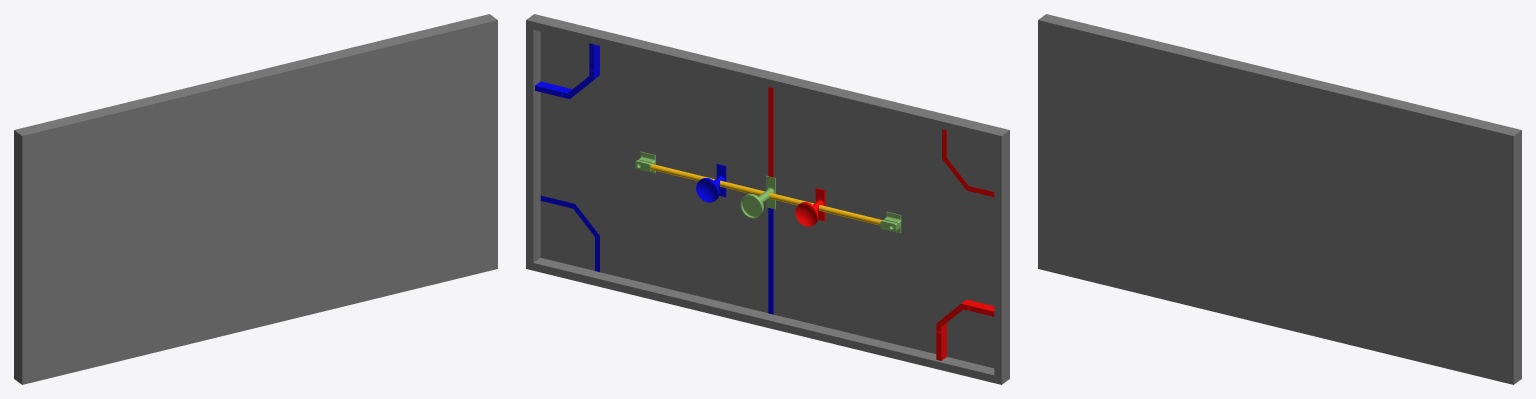
3 views of the same model, side by side, from view 1: azimuth 30°, elevation 25°; view 2: azimuth 150°, elevation 25°; view 3: azimuth 330°, elevation 25° (orthographic).
Visible parts, largest first — view 1: NAUO21, NAUO25, NAUO24; view 2: NAUO21, NAUO25, NAUO22, NAUO24, NAUO23, NAUO13, NAUO12, NAUO14, NAUO11, NAUO8, NAUO2, NAUO4 (+2 smaller); view 3: NAUO21, NAUO25, NAUO23.
Part boxes in pixels (x1=…): NAUO21: x1=21, y1=19, x2=497, y2=384; NAUO25: x1=14, y1=14, x2=496, y2=142; NAUO24: x1=14, y1=138, x2=21, y2=375; NAUO21: x1=533, y1=14, x2=1009, y2=379; NAUO25: x1=526, y1=15, x2=1008, y2=143; NAUO22: x1=526, y1=258, x2=1008, y2=384; NAUO24: x1=994, y1=139, x2=1008, y2=376; NAUO23: x1=526, y1=28, x2=540, y2=262; NAUO13: x1=740, y1=175, x2=775, y2=218; NAUO12: x1=696, y1=163, x2=726, y2=202; NAUO14: x1=795, y1=188, x2=825, y2=226; NAUO11: x1=769, y1=192, x2=882, y2=225; NAUO8: x1=650, y1=164, x2=764, y2=195; NAUO2: x1=768, y1=208, x2=773, y2=314; NAUO4: x1=540, y1=195, x2=599, y2=272; NAUO21: x1=1038, y1=19, x2=1514, y2=384; NAUO25: x1=1039, y1=14, x2=1521, y2=142; NAUO23: x1=1514, y1=138, x2=1521, y2=375.
Size of the model in its own units: 2.44 by 1.22 by 0.1873.
